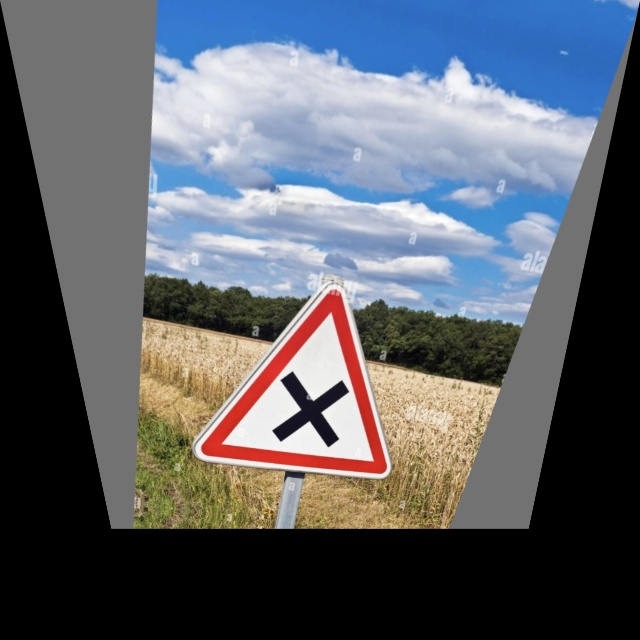Cross_Road: (179, 261, 442, 490)
